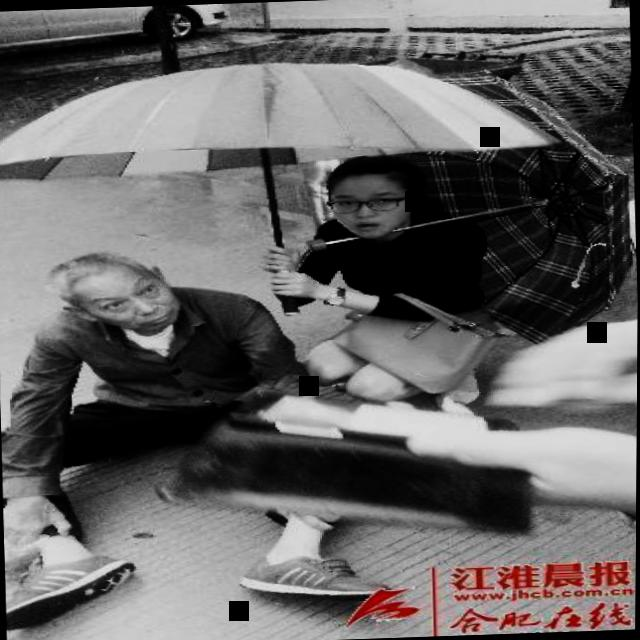Fall-Detected: (0, 214, 639, 631)
